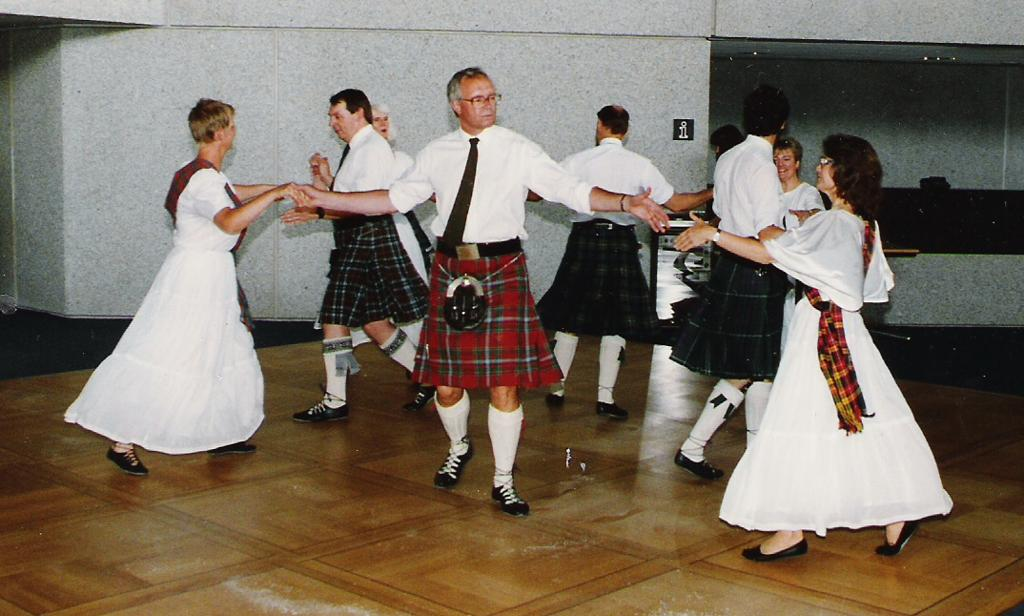face: (461, 76, 495, 127), (328, 98, 358, 138), (816, 145, 843, 188), (215, 115, 237, 150), (771, 145, 795, 177), (369, 111, 388, 136)
